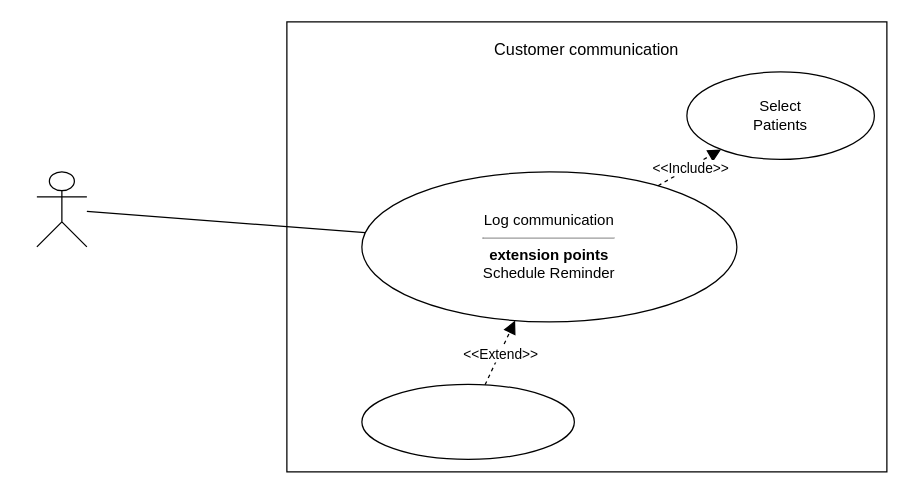
The diagram is 909 pixels wide and 494 high, and some of its shapes have lost their labels. Here are the shapes that lost their labels. From the top down, the centre of each, then its label:
the point at 61,209: Veterinarian
the point at 467,421: Schedule Reminder
